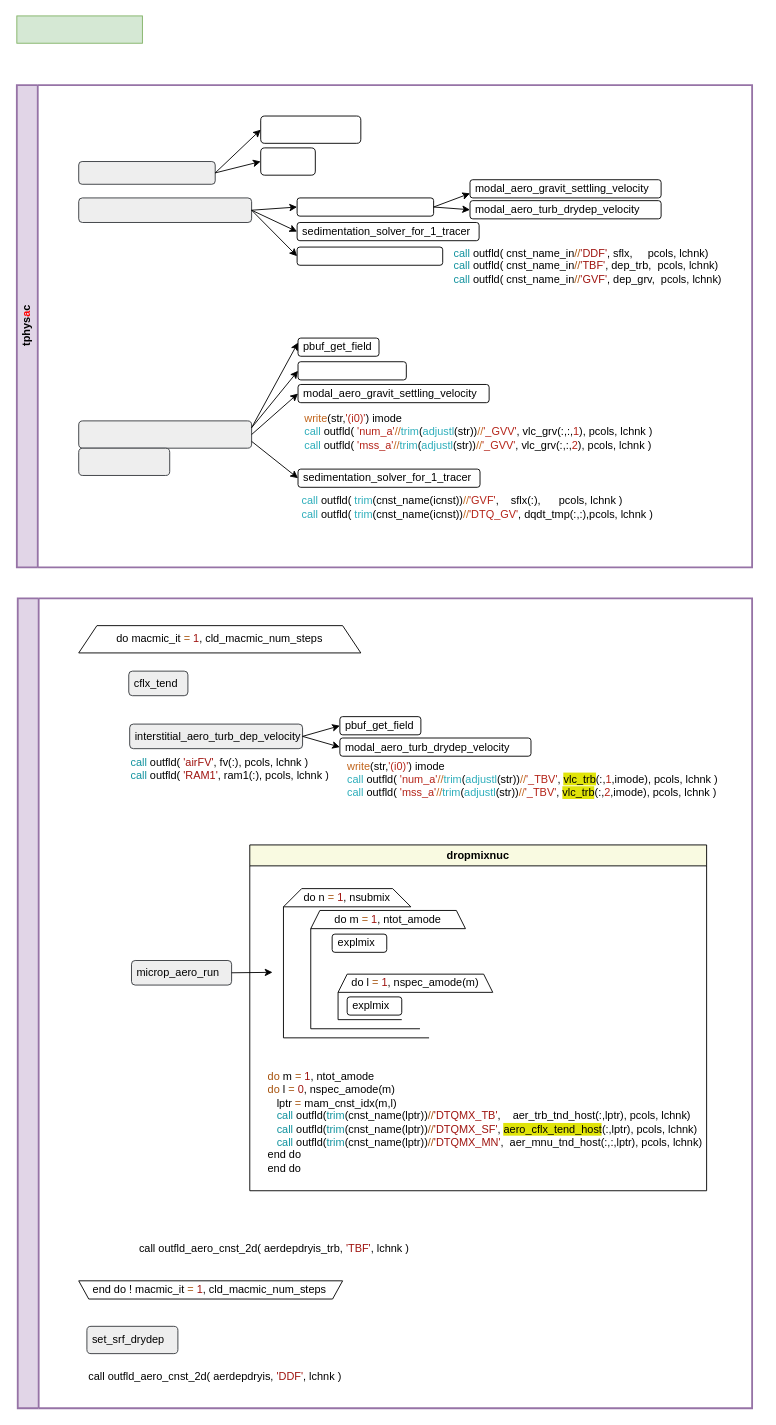
This 776x1425 diagram has some shape labels left out. The box of each missing label's shape, as (x1, y1, x2, y2) in pixels:
aero_model_drydep_cloudborne: (78, 197, 252, 222)
calc_ram: (260, 147, 315, 175)
calc_ustar_obklen: (260, 115, 361, 143)
drydep_diags_for_1_tracer: (296, 246, 443, 265)
get_gridcell_ram1_fricvel: (78, 161, 215, 184)
interstitial_aero_grav_setl_tend: (78, 420, 252, 448)
modal_aero_depvel_part: (296, 197, 434, 216)
New code, scheme 41: (16, 15, 142, 43)
physics_ptend_init: (297, 361, 406, 380)
physics_update: (78, 447, 170, 475)
tphysac: (16, 597, 753, 1409)
